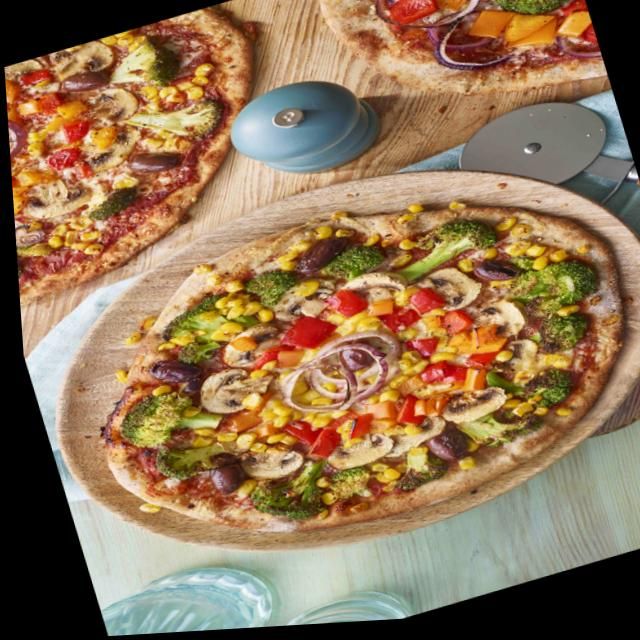pizza: (40, 142, 640, 594), (0, 0, 311, 312), (306, 0, 608, 156)
